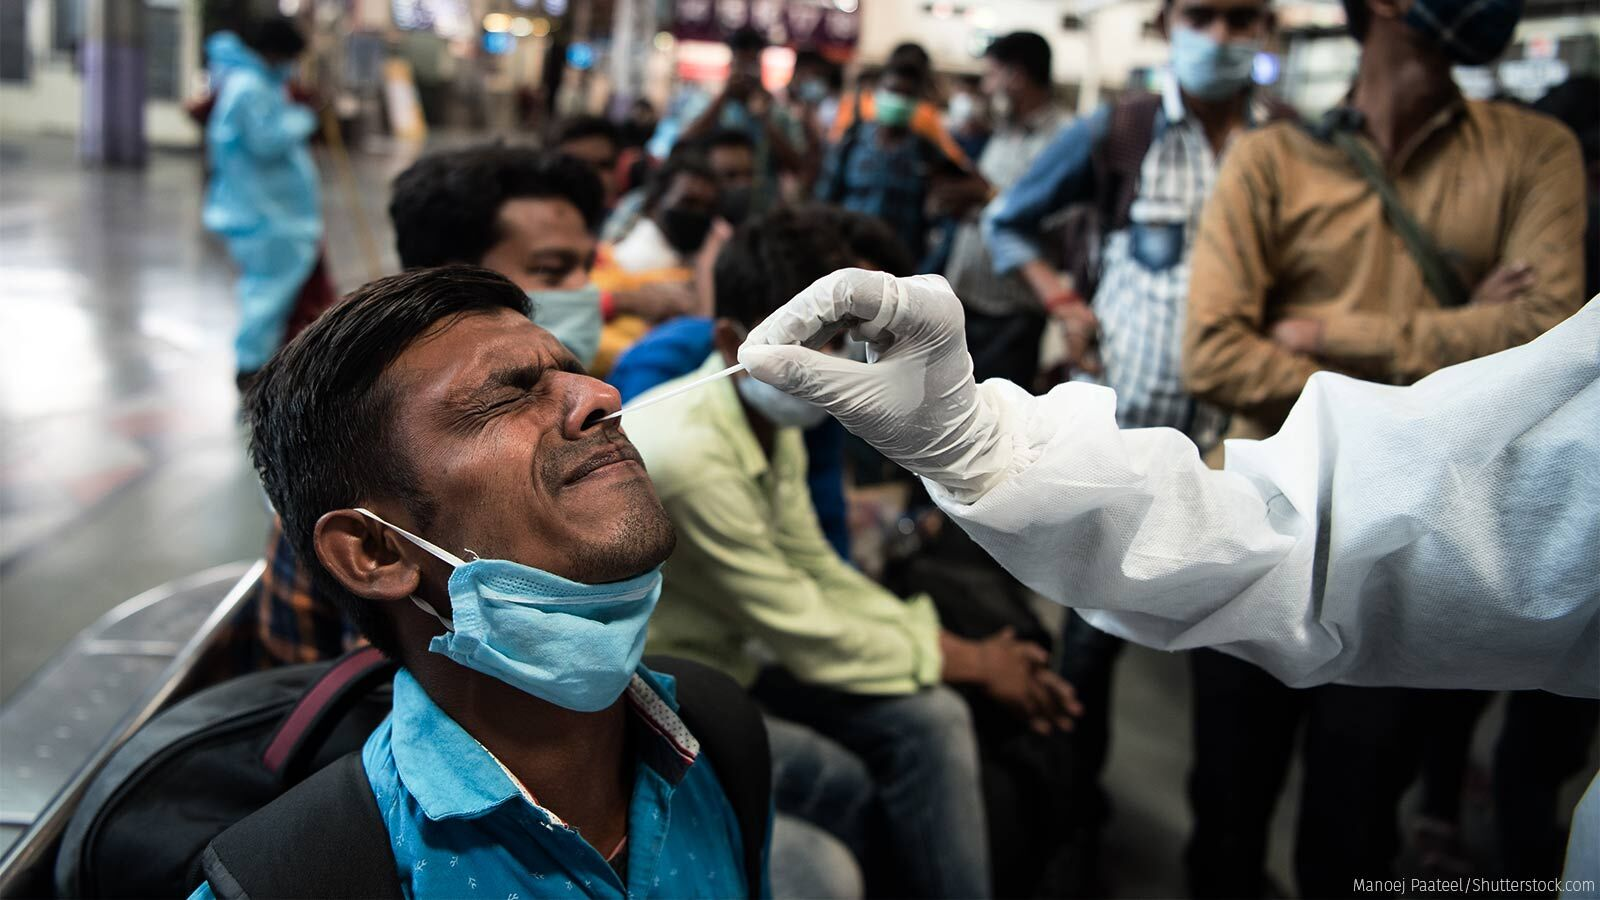with_mask: (531, 228, 618, 353), (1166, 2, 1259, 94)
without_mask: (424, 332, 652, 558)
